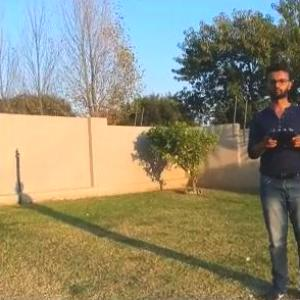follow: (243, 57, 300, 299)
